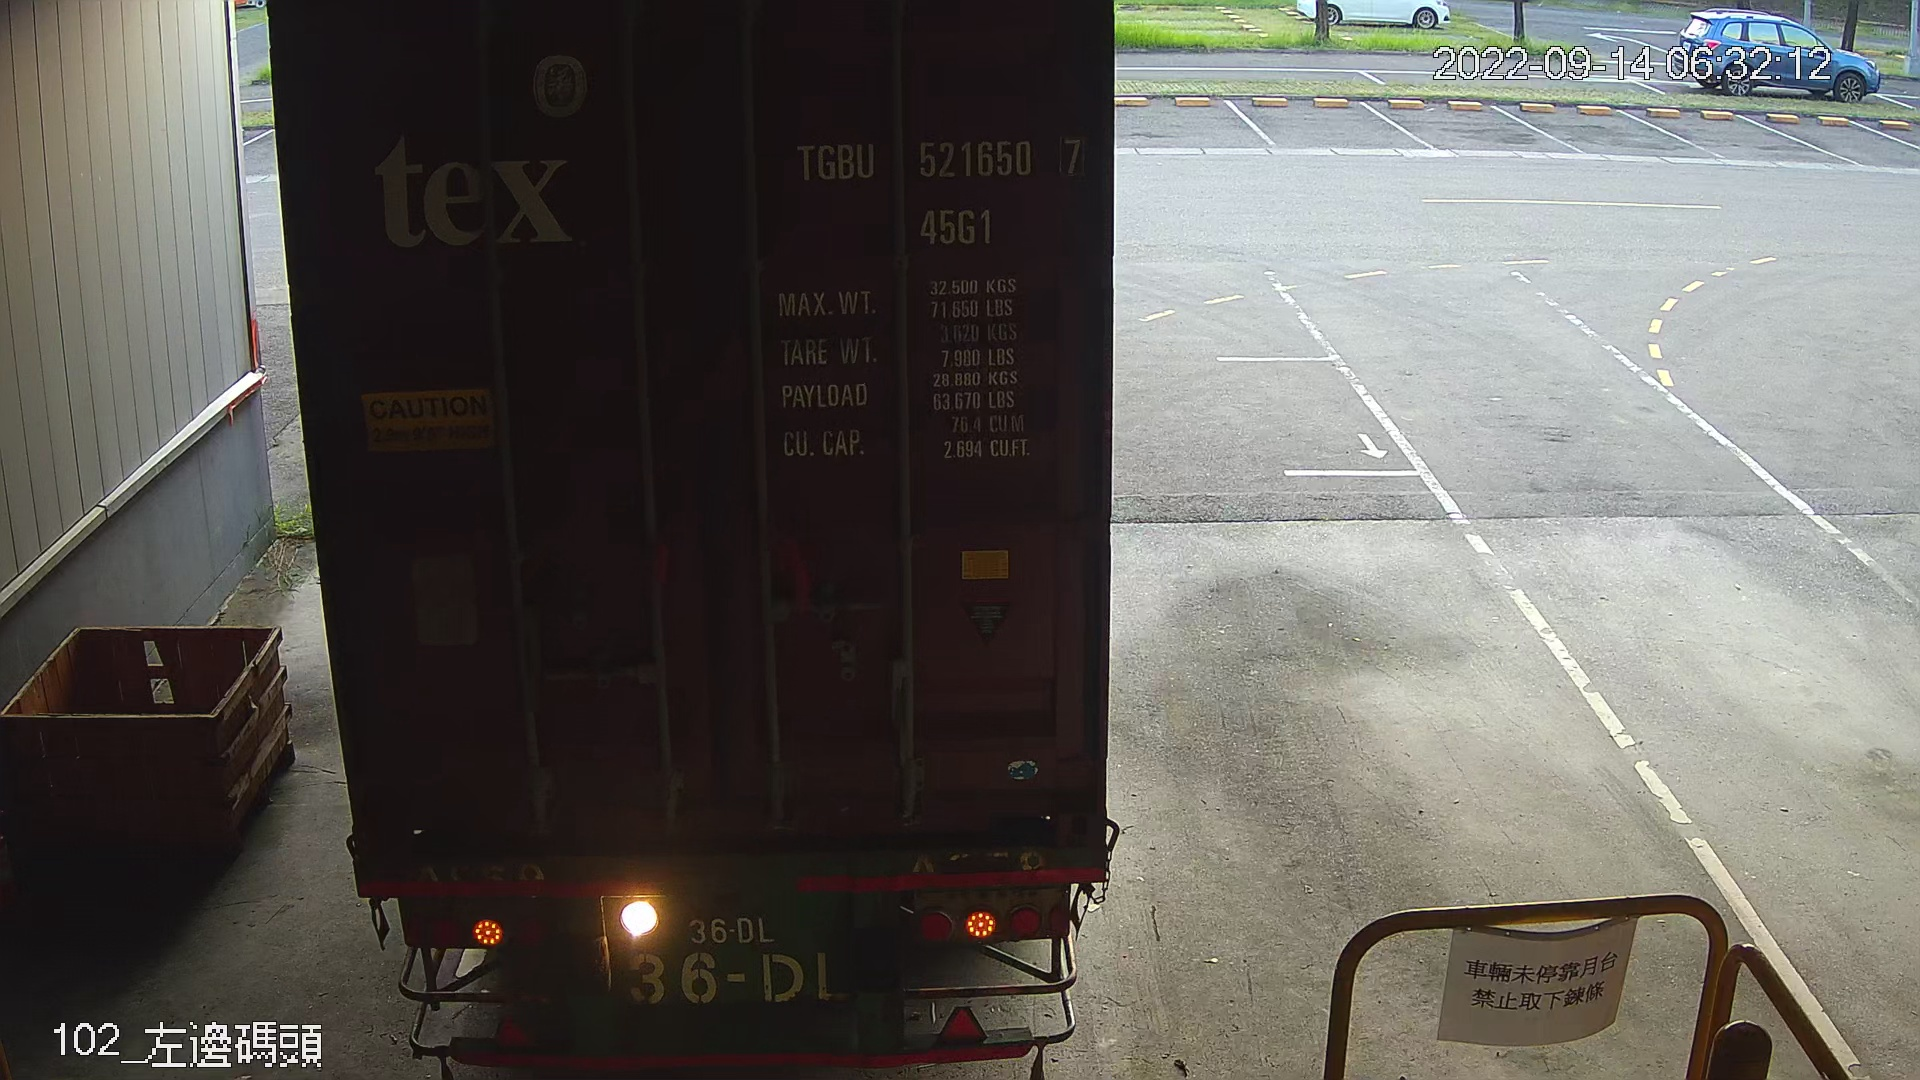container: (787, 124, 1091, 252)
